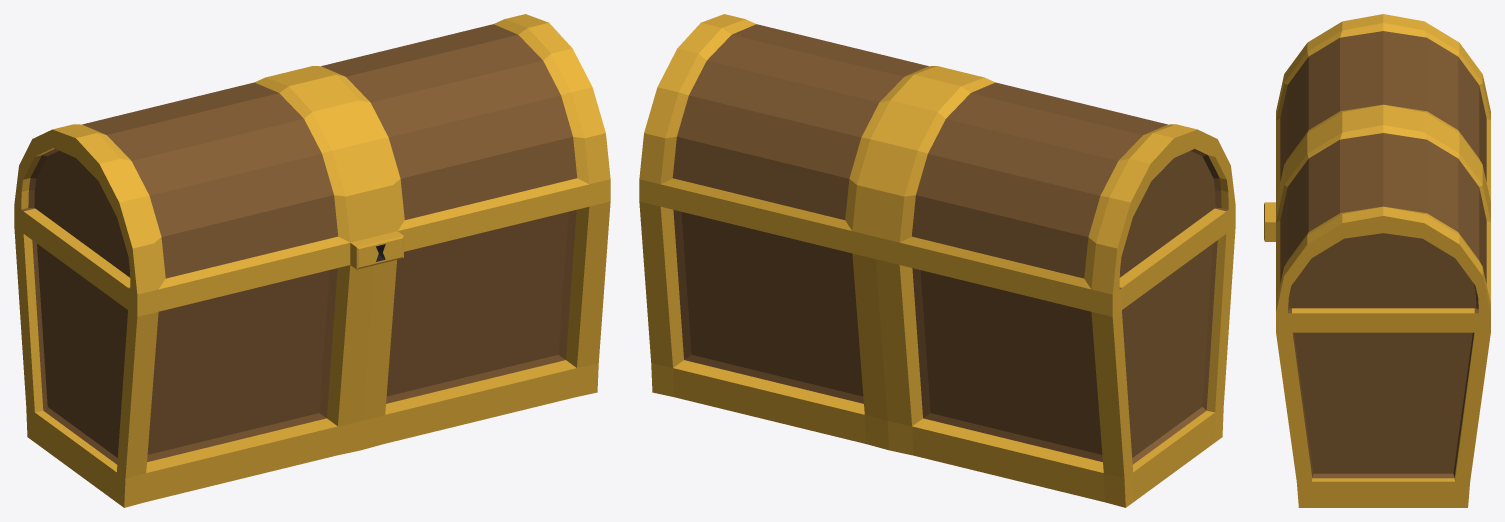
File: Treasure_Chest.fbx
The picture shows the model from 3 angles, left to right: view 1: azimuth 30°, elevation 25°; view 2: azimuth 150°, elevation 25°; view 3: azimuth 270°, elevation 25°; orthographic projection. The views are drawn at different scales.
Parts seen in each view (by area): view 1: Cube; view 2: Cube; view 3: Cube.
Boxes of the visible parts, <box> form: Cube: <box>14,14,610,507</box>; Cube: <box>639,14,1235,507</box>; Cube: <box>1264,14,1490,507</box>.
Size of the model in its own units: 400 by 270 by 190.
